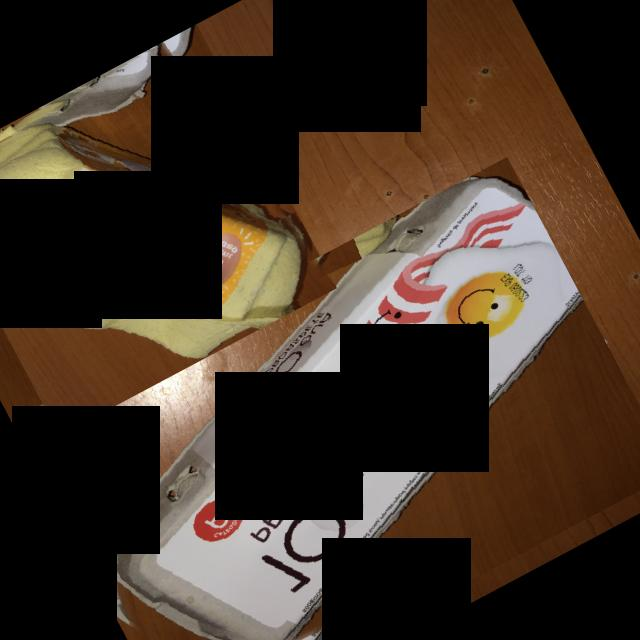eggs: (10, 156, 640, 640), (0, 23, 337, 434)
